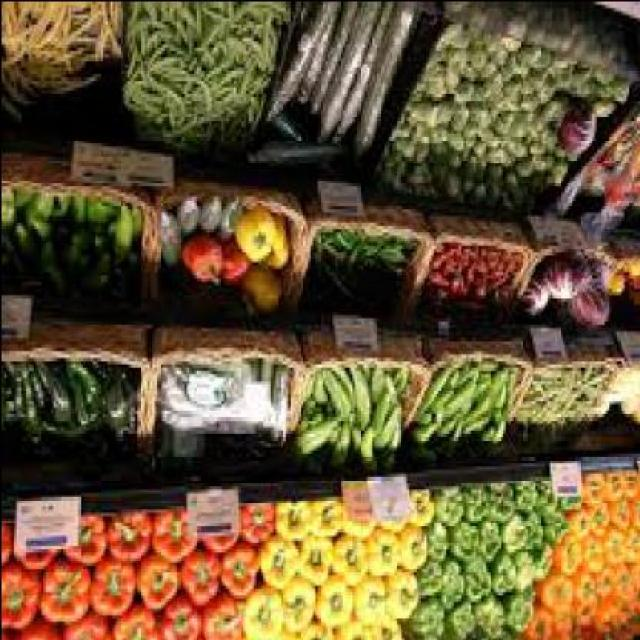BIODEGRADABLE: (121, 3, 284, 159), (2, 0, 92, 122), (346, 10, 408, 172), (312, 4, 373, 151), (328, 4, 390, 148), (262, 6, 326, 129), (512, 366, 608, 436), (304, 6, 350, 119), (312, 234, 413, 284), (38, 363, 96, 435), (294, 3, 331, 112), (242, 134, 346, 172), (35, 561, 87, 627), (86, 558, 134, 620), (175, 548, 218, 614), (459, 370, 504, 432), (272, 6, 306, 83), (133, 555, 178, 613), (1, 560, 37, 631), (96, 369, 133, 438), (2, 365, 43, 426), (254, 535, 297, 593), (175, 235, 220, 290), (148, 511, 194, 564), (553, 103, 593, 162), (58, 518, 102, 571), (238, 586, 282, 639), (81, 3, 116, 69), (102, 515, 146, 567), (218, 542, 255, 603), (408, 366, 448, 422), (234, 268, 277, 320), (541, 258, 585, 307), (232, 211, 270, 267), (255, 211, 287, 277), (605, 370, 638, 432), (155, 594, 200, 638), (277, 575, 311, 633), (308, 254, 348, 303), (232, 502, 272, 550), (327, 535, 361, 590), (509, 544, 546, 594), (563, 290, 606, 333), (290, 418, 336, 458), (534, 571, 571, 620), (197, 594, 238, 638), (10, 225, 42, 280), (311, 584, 351, 627), (405, 594, 443, 638), (381, 575, 413, 627), (516, 268, 549, 317), (111, 606, 160, 639), (296, 538, 327, 587), (318, 376, 351, 422), (267, 363, 284, 452), (362, 532, 393, 580), (59, 231, 87, 284), (269, 504, 306, 544), (153, 212, 178, 270), (254, 359, 272, 436), (459, 558, 487, 607), (600, 168, 631, 212), (304, 502, 338, 542), (590, 594, 624, 634), (437, 380, 469, 422), (56, 614, 112, 638), (82, 248, 109, 297), (346, 366, 366, 432), (348, 584, 381, 624), (393, 524, 419, 574), (192, 194, 220, 240), (81, 200, 114, 238), (469, 603, 503, 639), (109, 198, 126, 267), (504, 594, 531, 637), (603, 132, 637, 166), (440, 606, 475, 639), (520, 603, 552, 639), (220, 241, 245, 287), (489, 554, 514, 600), (549, 538, 576, 580), (457, 488, 485, 528), (438, 561, 459, 613), (20, 194, 52, 228), (435, 50, 457, 99), (613, 561, 638, 604), (452, 362, 485, 393), (579, 162, 603, 204), (326, 422, 346, 472), (172, 195, 195, 238), (371, 410, 392, 456), (502, 518, 526, 558), (539, 508, 563, 548), (405, 494, 430, 532), (450, 521, 472, 564), (568, 574, 590, 617), (422, 99, 450, 132), (578, 538, 600, 580), (214, 194, 234, 240), (477, 408, 501, 446), (475, 521, 496, 564), (432, 492, 457, 528), (380, 406, 395, 465), (514, 46, 548, 72), (353, 428, 373, 472), (509, 482, 531, 522), (423, 528, 445, 568), (565, 72, 593, 103), (487, 484, 508, 524), (532, 482, 553, 522), (462, 102, 484, 140), (578, 474, 600, 512), (368, 396, 386, 439), (586, 392, 606, 430), (14, 551, 52, 571), (432, 168, 457, 198), (336, 522, 370, 544), (593, 564, 613, 601), (439, 50, 467, 76), (422, 66, 442, 102), (37, 238, 54, 280), (15, 422, 42, 448), (464, 138, 482, 176), (378, 158, 398, 192), (444, 106, 464, 140), (378, 376, 398, 410), (416, 567, 436, 601), (532, 78, 553, 110), (620, 277, 638, 314), (509, 109, 529, 142), (489, 108, 509, 140), (618, 474, 638, 506), (329, 370, 353, 396), (47, 193, 67, 224), (522, 520, 538, 558), (566, 514, 586, 544), (586, 508, 606, 538), (472, 80, 499, 102), (408, 426, 435, 448), (544, 158, 561, 192), (589, 102, 613, 126), (603, 80, 625, 106), (371, 620, 402, 638), (284, 627, 330, 639), (495, 56, 516, 82), (66, 198, 82, 232), (306, 376, 322, 410), (200, 538, 234, 554), (608, 504, 624, 538), (622, 540, 638, 574), (18, 624, 54, 639), (625, 174, 638, 214), (583, 264, 603, 290), (126, 208, 139, 248), (374, 521, 400, 541), (602, 474, 618, 506), (442, 277, 464, 300), (610, 620, 638, 638), (400, 168, 425, 188), (585, 69, 610, 89), (296, 392, 312, 423), (571, 617, 594, 638), (406, 102, 426, 126), (472, 62, 492, 86), (442, 146, 460, 172), (424, 267, 444, 290), (334, 627, 371, 639), (499, 254, 516, 280), (499, 80, 519, 102), (1, 182, 10, 230), (605, 274, 621, 300), (1, 518, 10, 564), (482, 254, 502, 274), (390, 142, 410, 162), (487, 152, 507, 172), (509, 162, 529, 182), (528, 154, 548, 174), (526, 154, 546, 174), (432, 422, 452, 442), (460, 419, 485, 435), (472, 134, 499, 148), (551, 617, 569, 638), (496, 175, 512, 198), (12, 192, 30, 212), (47, 277, 62, 300), (628, 500, 637, 538), (469, 184, 482, 210), (605, 538, 618, 564), (512, 99, 533, 115), (410, 146, 425, 168), (428, 126, 444, 146), (522, 73, 542, 89), (548, 76, 568, 92), (449, 30, 469, 45), (469, 277, 482, 300), (497, 39, 518, 53), (452, 86, 470, 102), (452, 254, 480, 264), (462, 265, 484, 277), (442, 135, 462, 148), (556, 501, 576, 514), (508, 191, 524, 207), (422, 294, 442, 306), (445, 261, 460, 277), (487, 274, 499, 294), (425, 149, 440, 165), (393, 126, 405, 146), (410, 126, 425, 142), (507, 149, 524, 162), (620, 268, 638, 280), (446, 393, 454, 419), (346, 432, 356, 452), (549, 63, 571, 72), (442, 377, 455, 392), (436, 248, 452, 260), (484, 184, 491, 210), (428, 258, 440, 273), (448, 426, 457, 446), (494, 287, 504, 304), (460, 182, 469, 198), (2, 628, 15, 638), (413, 416, 422, 429)
